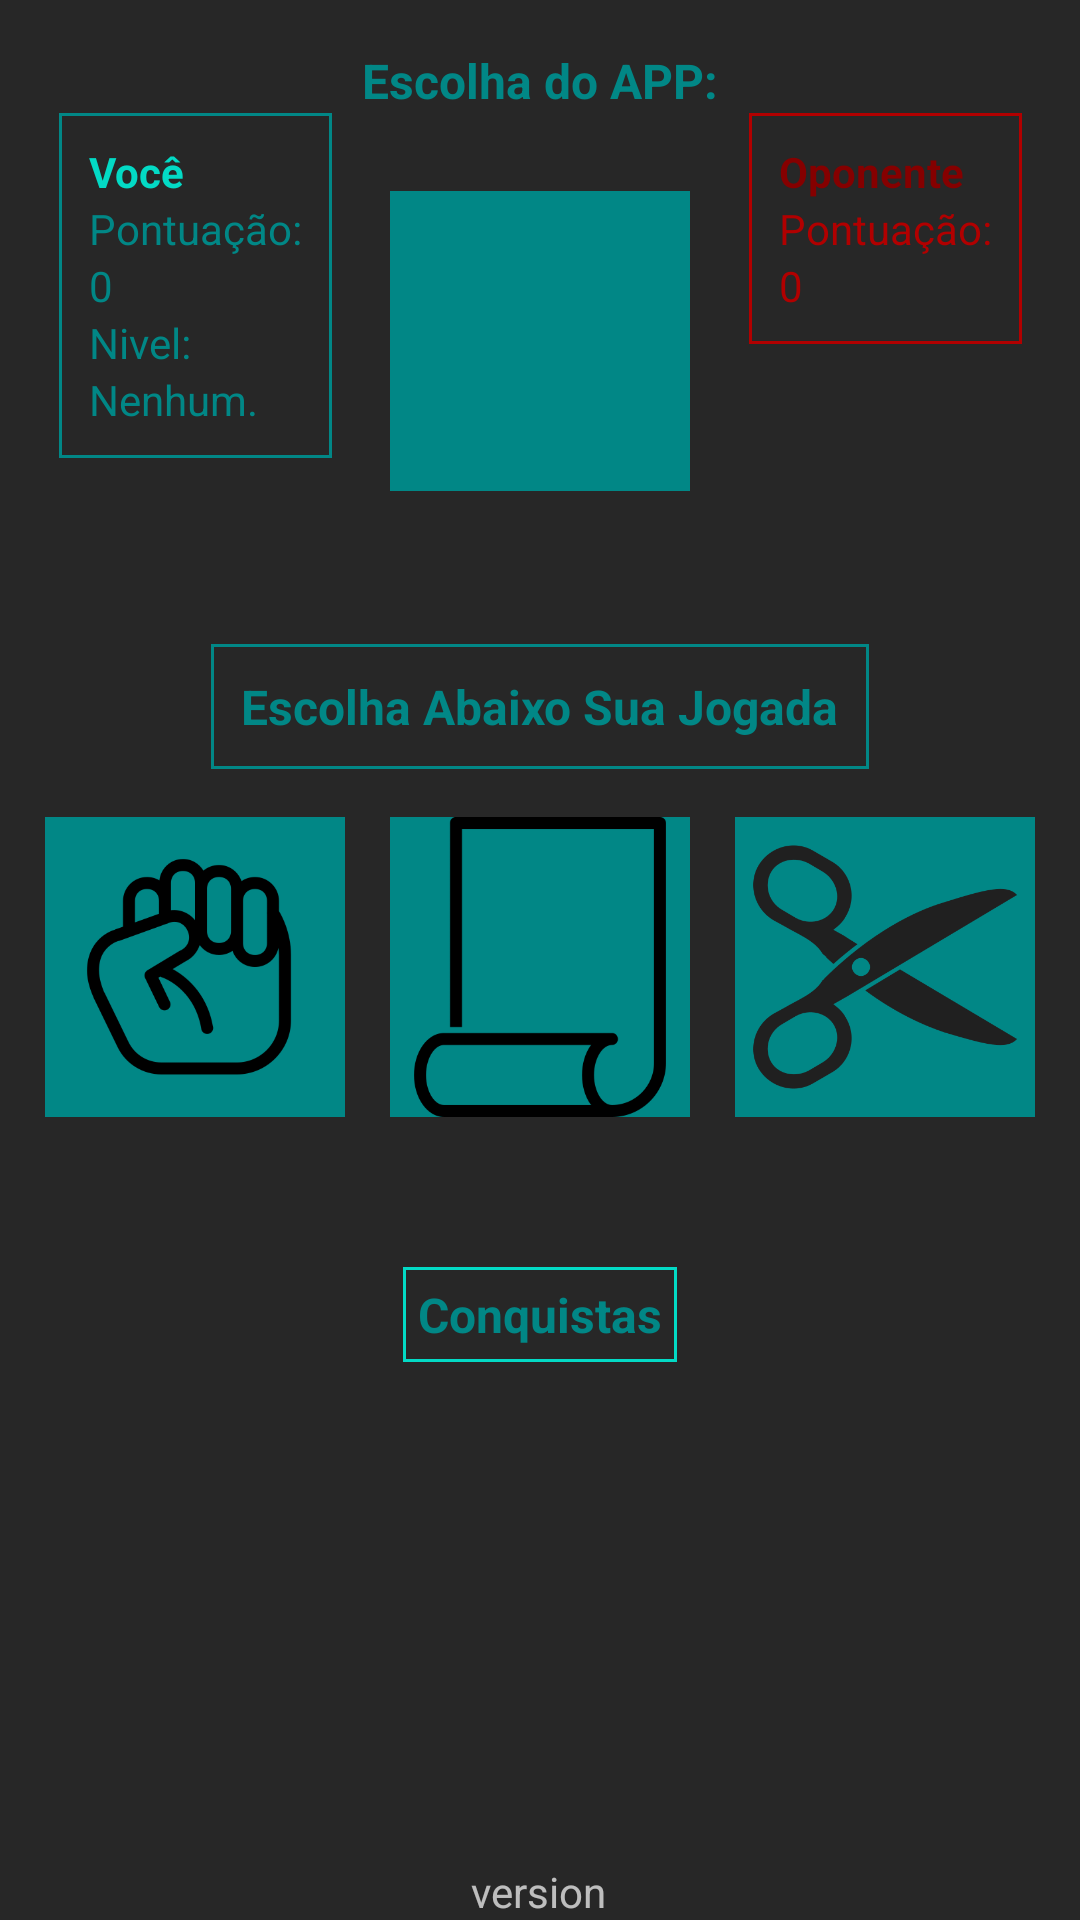

Screen size 1080px×1920px. Icon name, then its center in pixels as (x,y):
papel: (540,967)
pedra: (195,967)
tesoura: (885,967)
